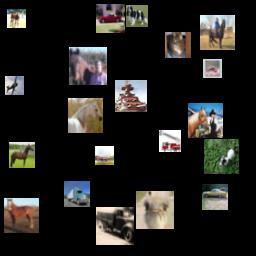airplane: (95, 146, 114, 165), (5, 76, 24, 95)
automobile: (96, 4, 125, 33), (202, 184, 228, 210)
bird: (136, 191, 174, 229), (203, 59, 222, 78)
cat: (165, 32, 191, 58)
dog: (204, 139, 239, 174), (126, 5, 148, 27)
ship: (115, 80, 147, 112)
truck: (96, 207, 134, 245), (64, 181, 90, 207), (159, 130, 181, 152)
